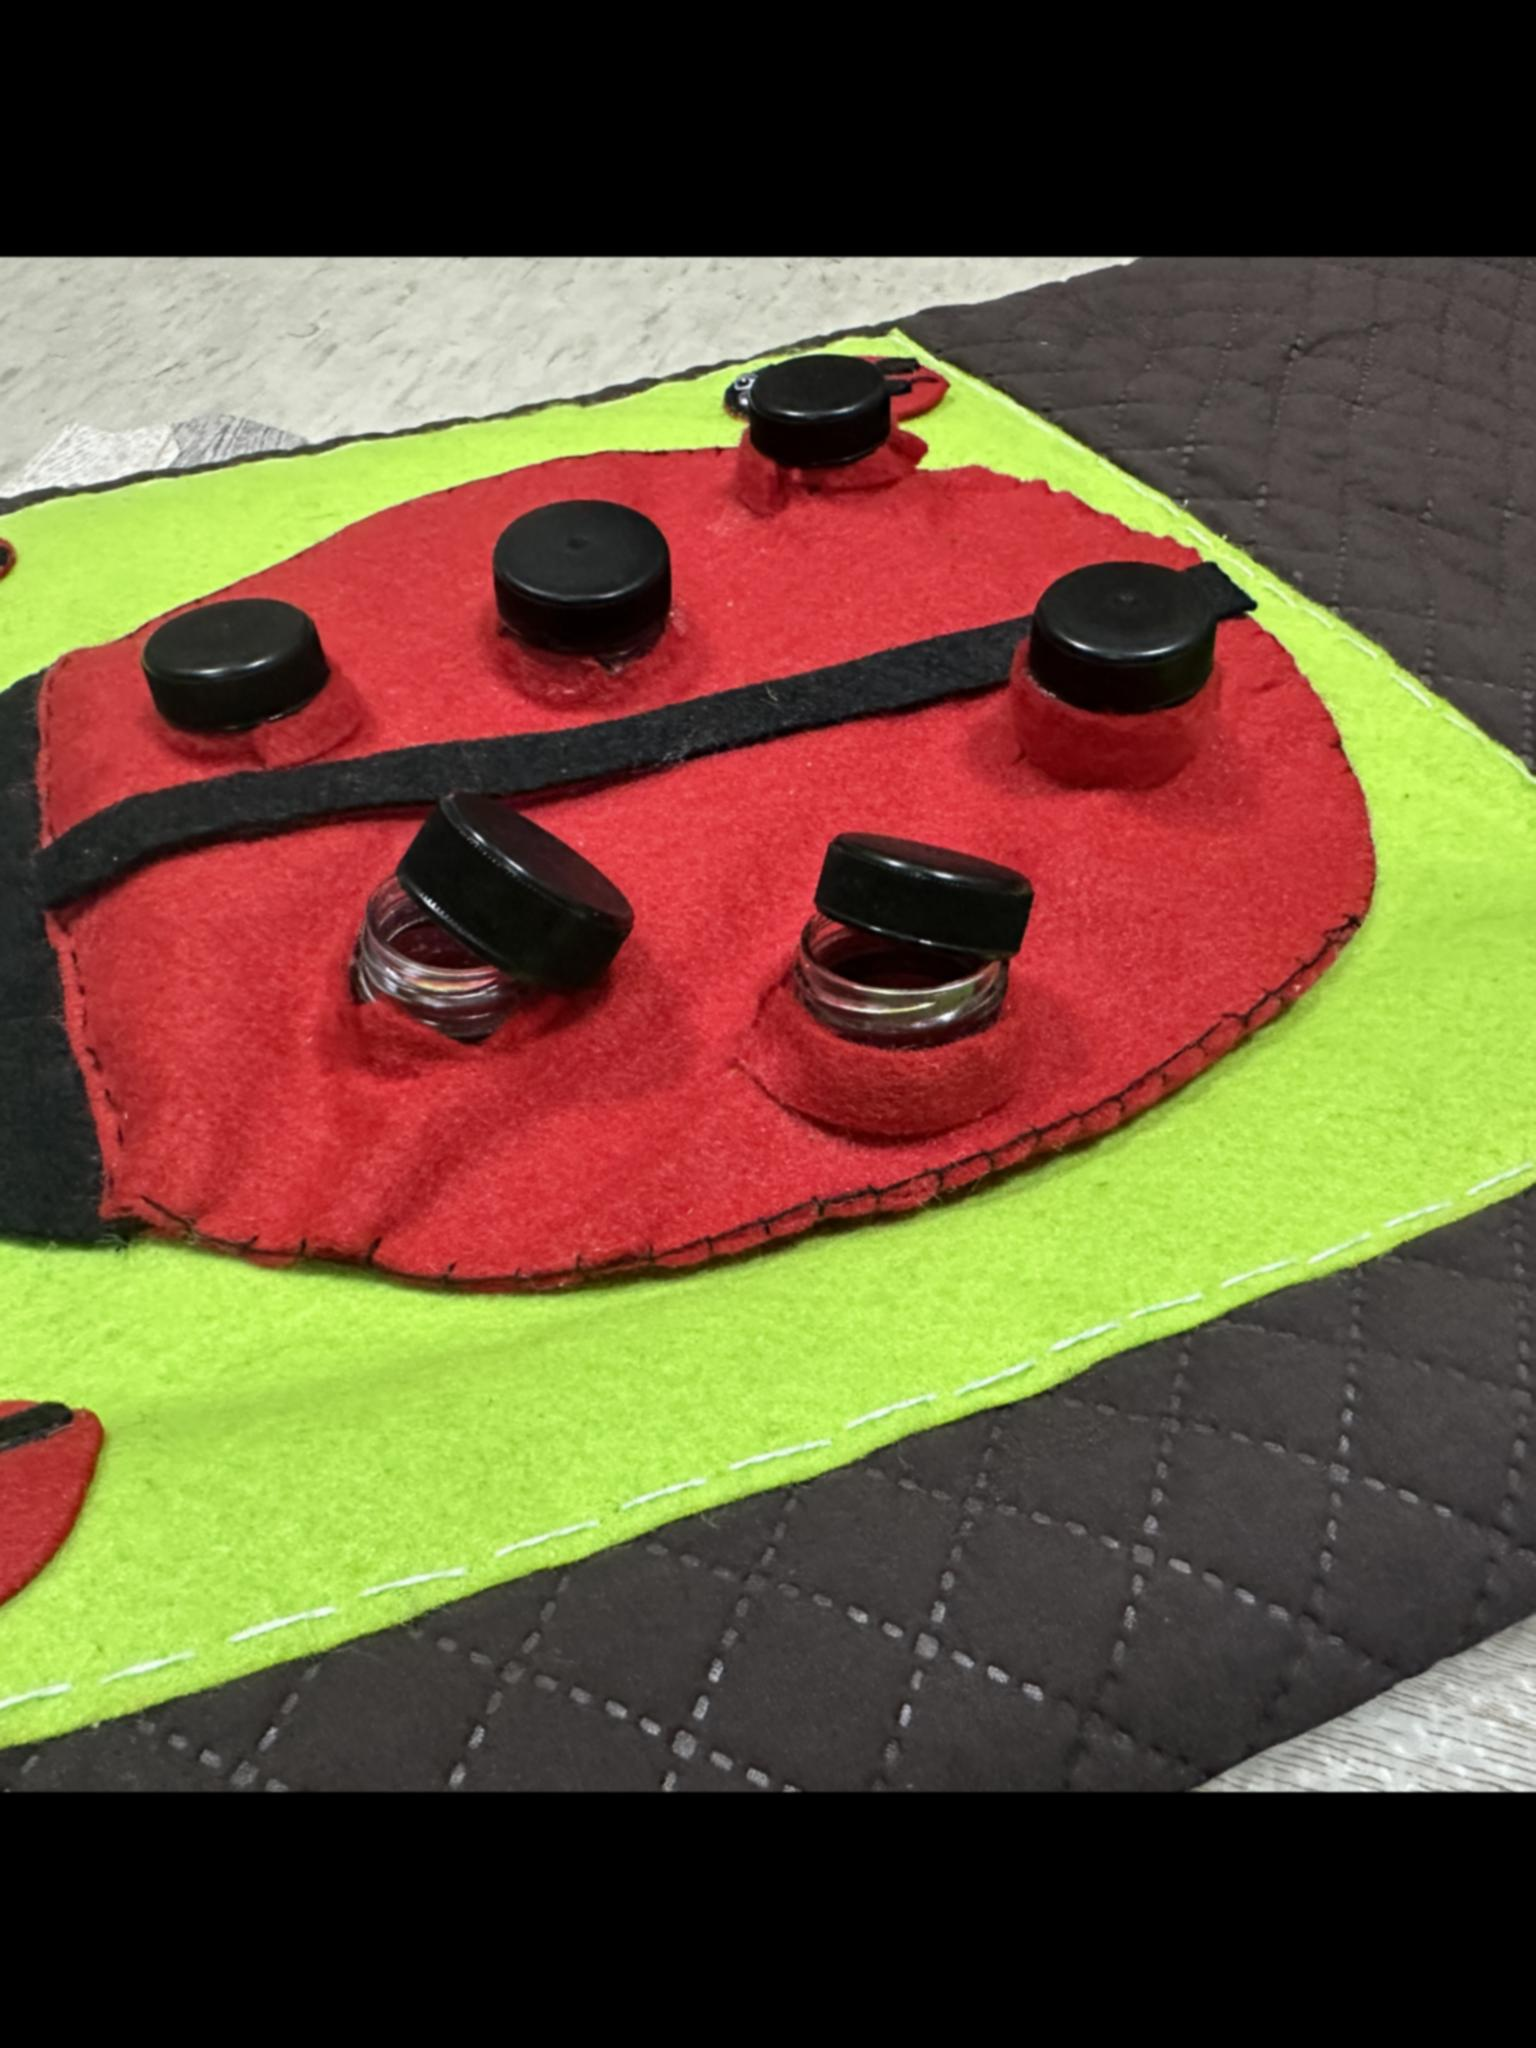cap_ng: (721, 834, 1065, 1106), (313, 769, 639, 1045)
cap_ok: (960, 553, 1236, 780), (95, 566, 350, 761), (452, 492, 691, 690), (715, 343, 920, 497)
